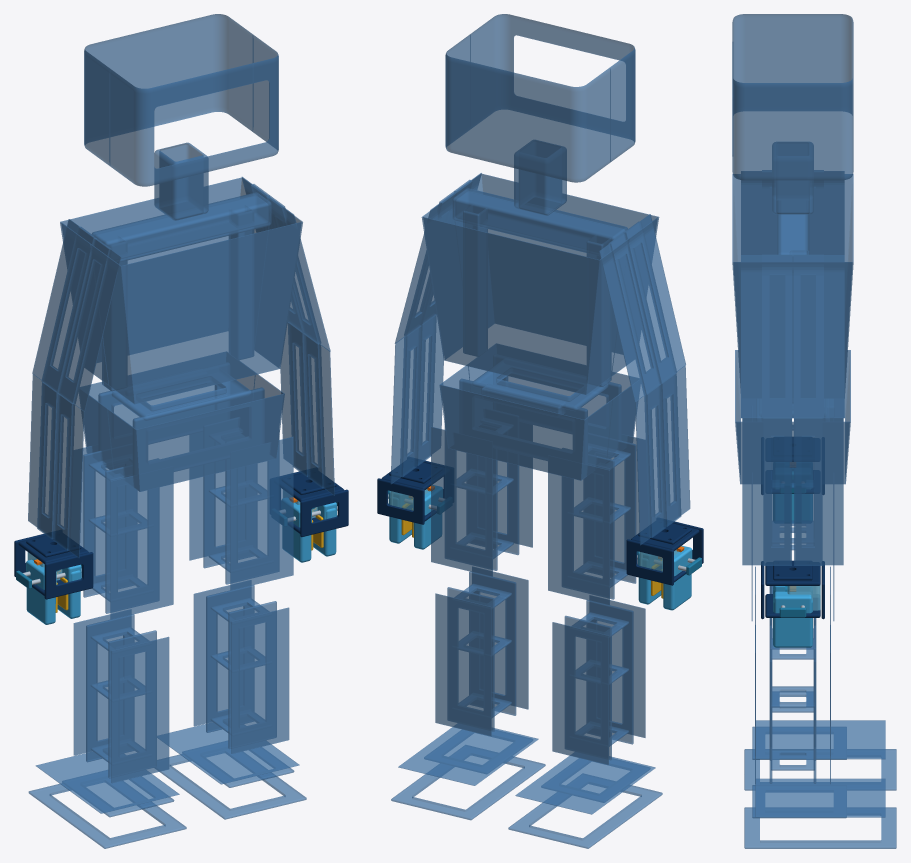
File: HR-30_detailed_hands_installed_closed_candidate.glb
3 views of the same model, side by side, from view 1: azimuth 30°, elevation 25°; view 2: azimuth 150°, elevation 25°; view 3: azimuth 270°, elevation 25° (orthographic). The views are drawn at different scales.
Parts seen in each view (by area): view 1: HR30_MODULAR_BODY, R_PALM_FRONT_PLATE, L_PALM_FRONT_PLATE, R_FINGER_NEGATIVE, L_FINGER_NEGATIVE, L_FINGER_POSITIVE, R_FINGER_POSITIVE, R_WRIST_MOUNT_PLATE; view 2: HR30_MODULAR_BODY, L_PALM_REAR_PLATE, R_PALM_REAR_PLATE, R_FINGER_NEGATIVE, L_FINGER_NEGATIVE; view 3: HR30_MODULAR_BODY, L_FINGER_POSITIVE, R_FINGER_POSITIVE, L_WRIST_MOUNT_PLATE, L_PALM_TOP_BRIDGE, L_ACTUATOR_VENDOR_CANDIDATE, L_PALM_BOTTOM_BRIDGE.
Part boxes in pixels (x1,y1,x2,y2): HR30_MODULAR_BODY: [28, 14, 334, 848]; R_PALM_FRONT_PLATE: [44, 552, 93, 599]; L_PALM_FRONT_PLATE: [300, 489, 348, 537]; R_FINGER_NEGATIVE: [26, 559, 56, 624]; L_FINGER_NEGATIVE: [281, 497, 311, 562]; L_FINGER_POSITIVE: [313, 502, 336, 556]; R_FINGER_POSITIVE: [57, 564, 81, 618]; R_WRIST_MOUNT_PLATE: [26, 536, 81, 557]; HR30_MODULAR_BODY: [390, 14, 690, 848]; L_PALM_REAR_PLATE: [377, 478, 424, 524]; R_PALM_REAR_PLATE: [626, 539, 673, 585]; R_FINGER_NEGATIVE: [662, 545, 692, 610]; L_FINGER_NEGATIVE: [413, 485, 442, 549]; HR30_MODULAR_BODY: [732, 14, 896, 848]; L_FINGER_POSITIVE: [773, 591, 812, 647]; R_FINGER_POSITIVE: [773, 471, 812, 523]; L_WRIST_MOUNT_PLATE: [773, 560, 812, 580]; L_PALM_TOP_BRIDGE: [765, 565, 820, 585]; L_ACTUATOR_VENDOR_CANDIDATE: [787, 584, 820, 610]; L_PALM_BOTTOM_BRIDGE: [765, 594, 820, 617].
Bounding box in the file's own units: 332 × 752 × 149.
